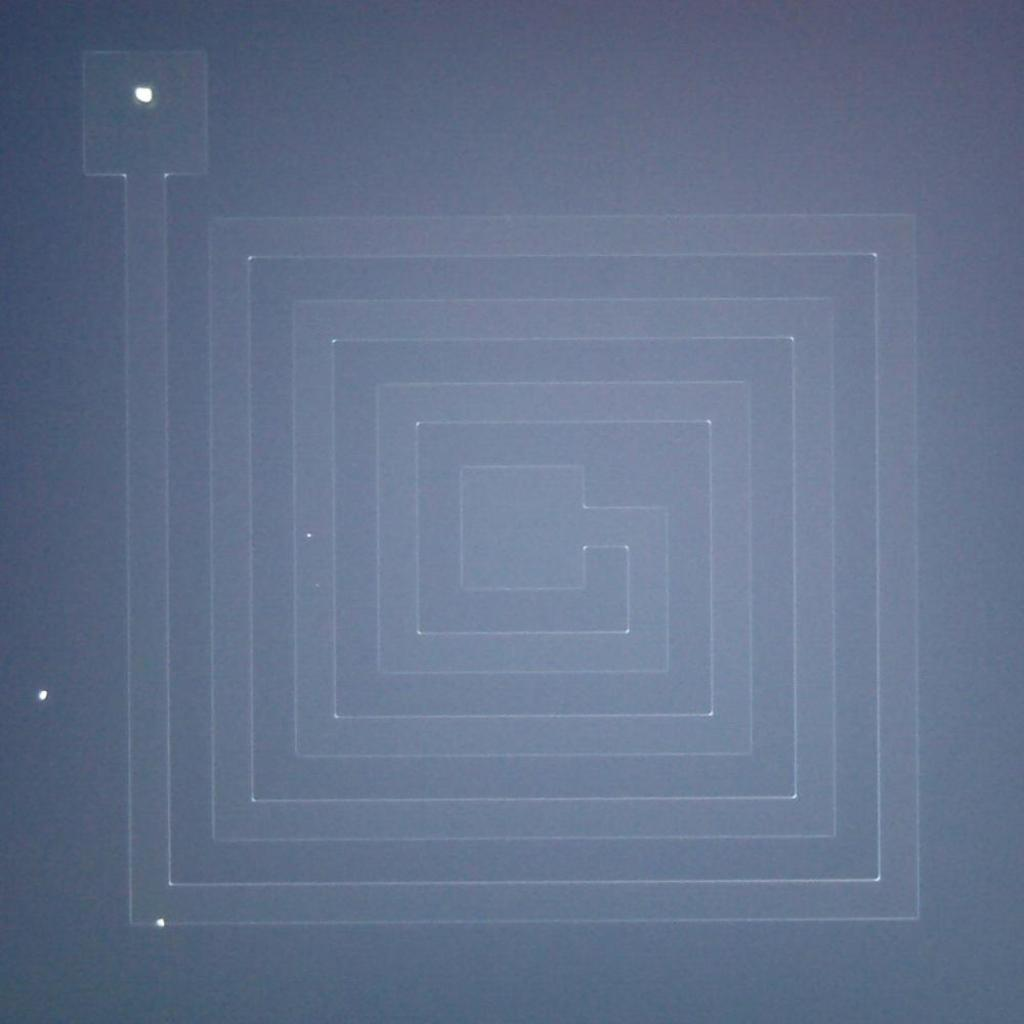Bdot: (136, 87, 153, 104)
dot: (38, 691, 48, 700), (157, 918, 165, 926), (307, 534, 311, 538)
